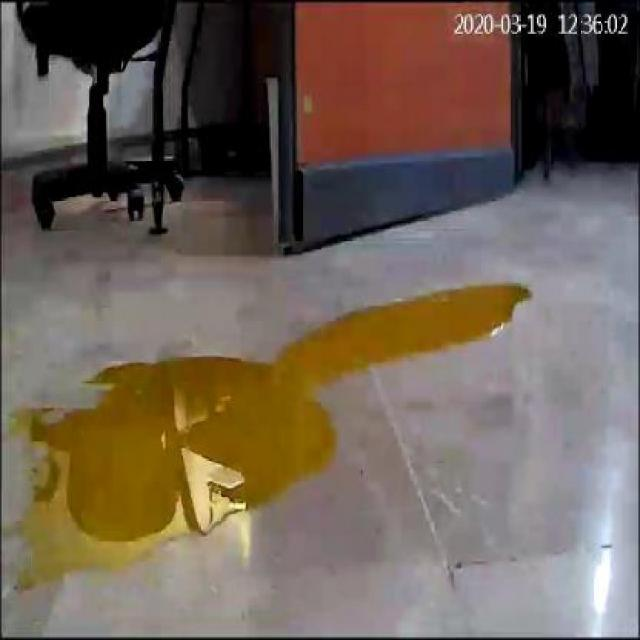spill: (15, 282, 538, 584)
